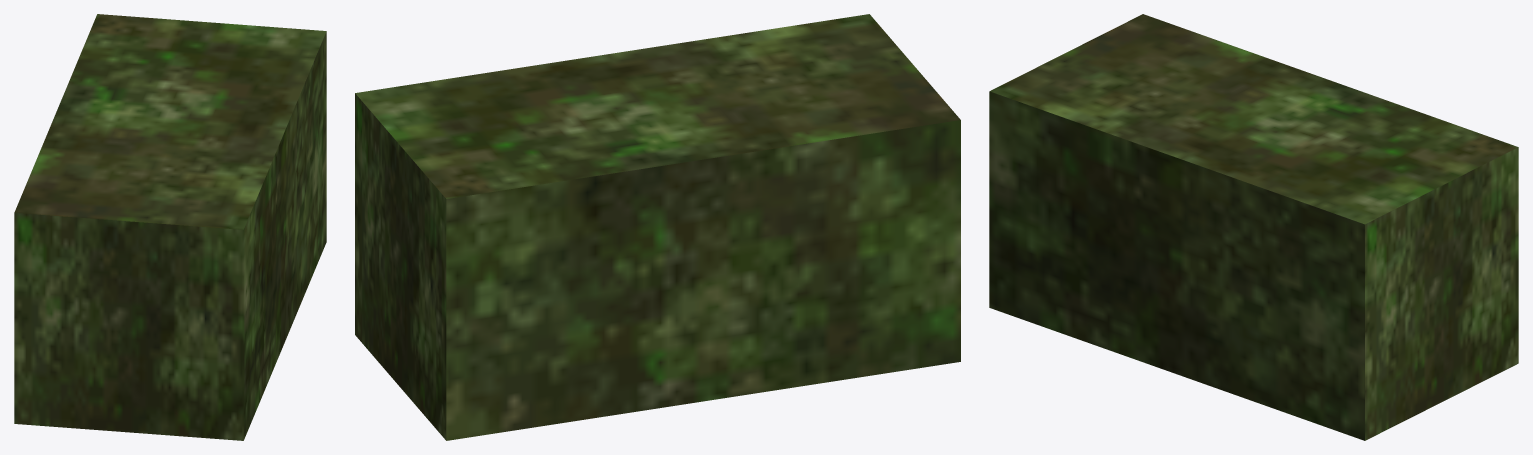
Rendered from OVERHILL_A_01_STONE_BLOCK_20.fbx.
3 renders of one model, left to right at view 1: azimuth 30°, elevation 25°; view 2: azimuth 150°, elevation 25°; view 3: azimuth 270°, elevation 25°, orthographic. The views are drawn at different scales.
Visible parts, largest first — view 1: OVERHILL_A_01_STONE_BLOCK_20; view 2: OVERHILL_A_01_STONE_BLOCK_20; view 3: OVERHILL_A_01_STONE_BLOCK_20.
Boxes of the visible parts, left/top/right/bottom form: OVERHILL_A_01_STONE_BLOCK_20: left=14, top=14, right=326, bottom=440; OVERHILL_A_01_STONE_BLOCK_20: left=355, top=14, right=960, bottom=440; OVERHILL_A_01_STONE_BLOCK_20: left=989, top=14, right=1518, bottom=440.
Bounding box in the file's own units: 16496 × 7913 × 17521.
1 material, 1 textured.
